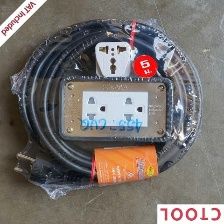three_eye_plug: (54, 73, 175, 148)
